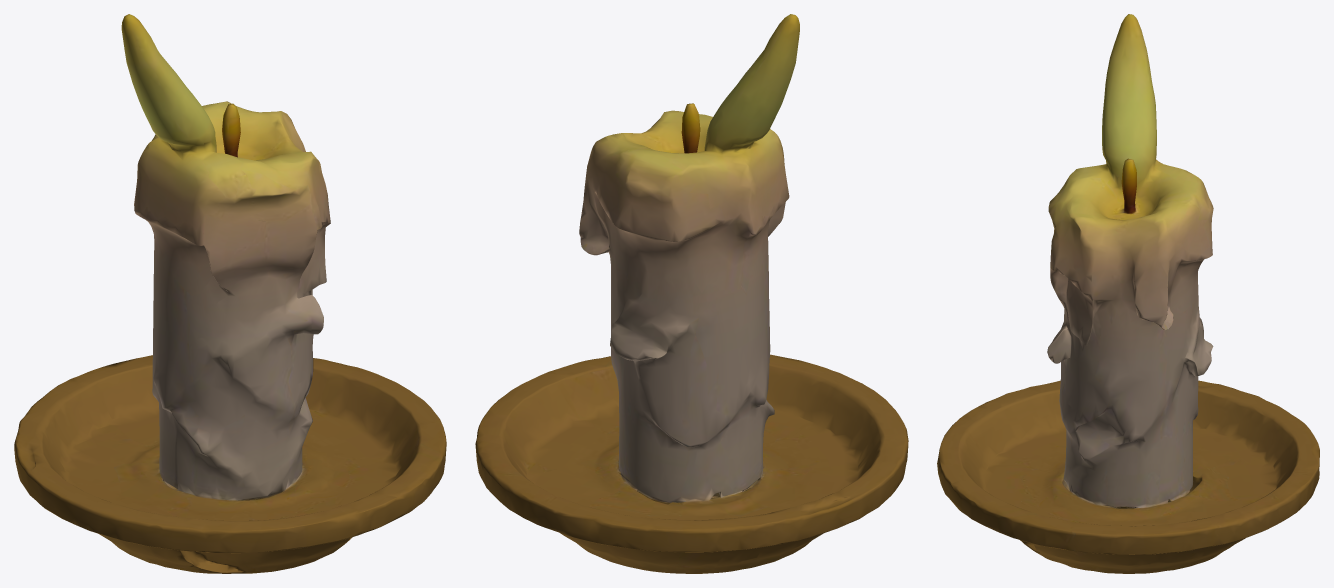
3 renders of one model, left to right at view 1: azimuth 30°, elevation 25°; view 2: azimuth 150°, elevation 25°; view 3: azimuth 270°, elevation 25°, orthographic. The views are drawn at different scales.
Parts seen in each view (by area): view 1: tripo_node_e59dec7d-abb7-4da0-9285-8a66946d703a; view 2: tripo_node_e59dec7d-abb7-4da0-9285-8a66946d703a; view 3: tripo_node_e59dec7d-abb7-4da0-9285-8a66946d703a.
Part boxes in pixels (x1,y1,x2,y2): tripo_node_e59dec7d-abb7-4da0-9285-8a66946d703a: (14,14,446,573); tripo_node_e59dec7d-abb7-4da0-9285-8a66946d703a: (475,14,908,573); tripo_node_e59dec7d-abb7-4da0-9285-8a66946d703a: (937,14,1319,573).
Size of the model in its own units: 0.1482 by 0.2 by 0.1482.
Materials: 1 (1 with a texture image).
